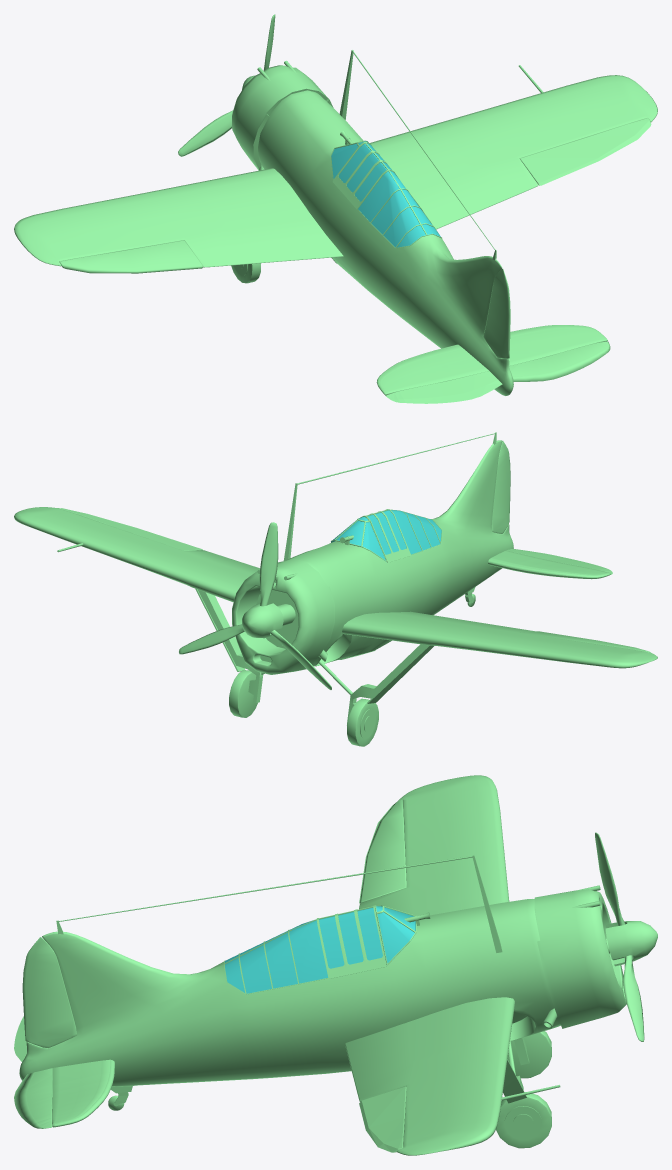
The model's file is F2A Buffalo_landing 2.fbx.
3 renders of one model, top to bottom at view 1: azimuth 30°, elevation 25°; view 2: azimuth 150°, elevation 25°; view 3: azimuth 270°, elevation 25°, orthographic. The views are drawn at different scales.
Visible parts, largest first — view 1: Shape002, Wirnik; view 2: Shape002, Wirnik; view 3: Shape002, Wirnik.
Boxes of the visible parts, x1,y1,x2,y2 form: Shape002: (14,50,657,403); Wirnik: (178,14,275,156); Shape002: (14,432,657,746); Wirnik: (179,522,331,689); Shape002: (14,775,626,1155); Wirnik: (595,832,657,1041).
Size of the model in its own units: 1055 by 776 by 370.
